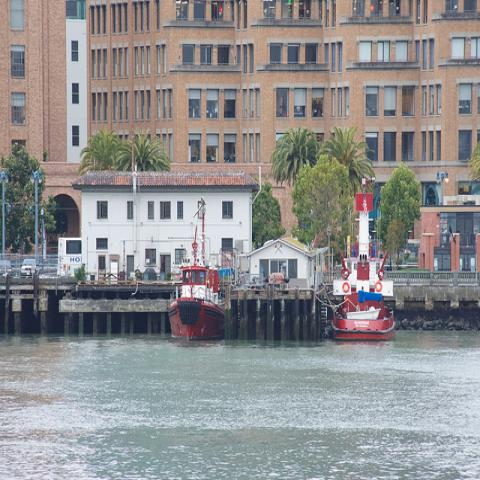bus: (56, 232, 83, 276)
car: (20, 259, 36, 275), (0, 260, 14, 278)
